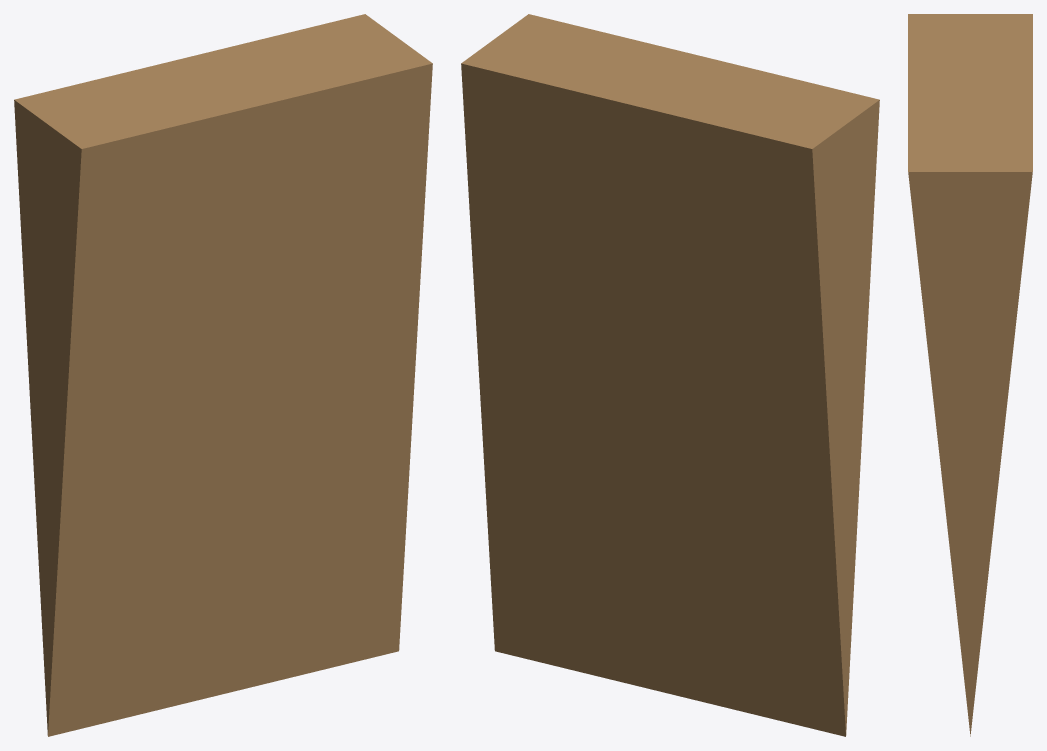
Rendered from prop-carpenter-hatchet-wedge-ht1.fbx.
3 renders of one model, left to right at view 1: azimuth 30°, elevation 25°; view 2: azimuth 150°, elevation 25°; view 3: azimuth 270°, elevation 25°, orthographic. The views are drawn at different scales.
Visible parts, largest first — view 1: prop-carpenter-hatchet-wedge-ht1; view 2: prop-carpenter-hatchet-wedge-ht1; view 3: prop-carpenter-hatchet-wedge-ht1.
Boxes of the visible parts, box(x1,y1,x2,y2) form: prop-carpenter-hatchet-wedge-ht1: box(14, 14, 432, 736); prop-carpenter-hatchet-wedge-ht1: box(461, 14, 879, 736); prop-carpenter-hatchet-wedge-ht1: box(908, 14, 1032, 736).
Size of the model in its own units: 0.024 by 0.04 by 0.008.
